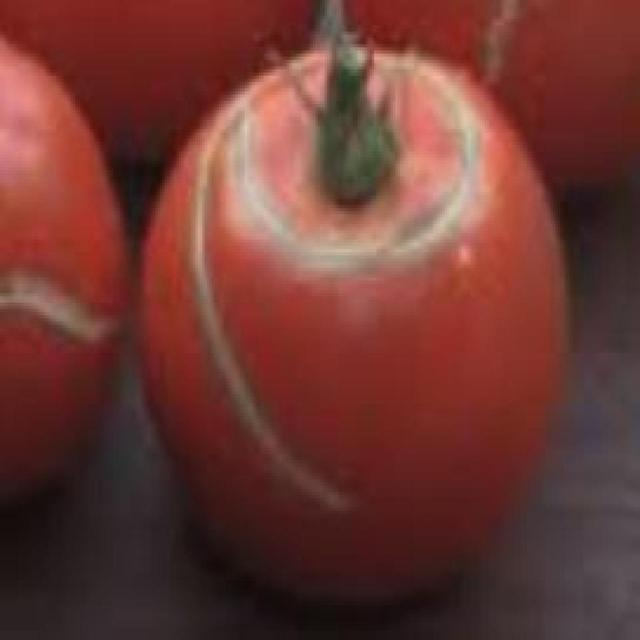Cracking Fruit: (39, 91, 238, 291)
